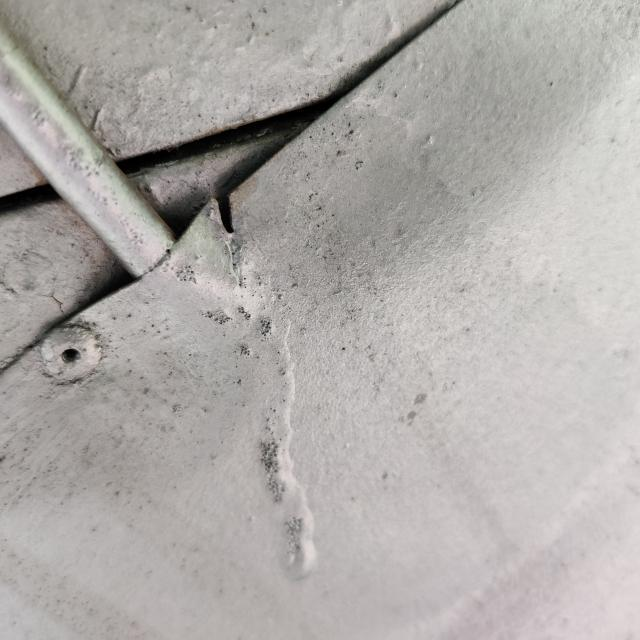Crack: (216, 192, 234, 233)
